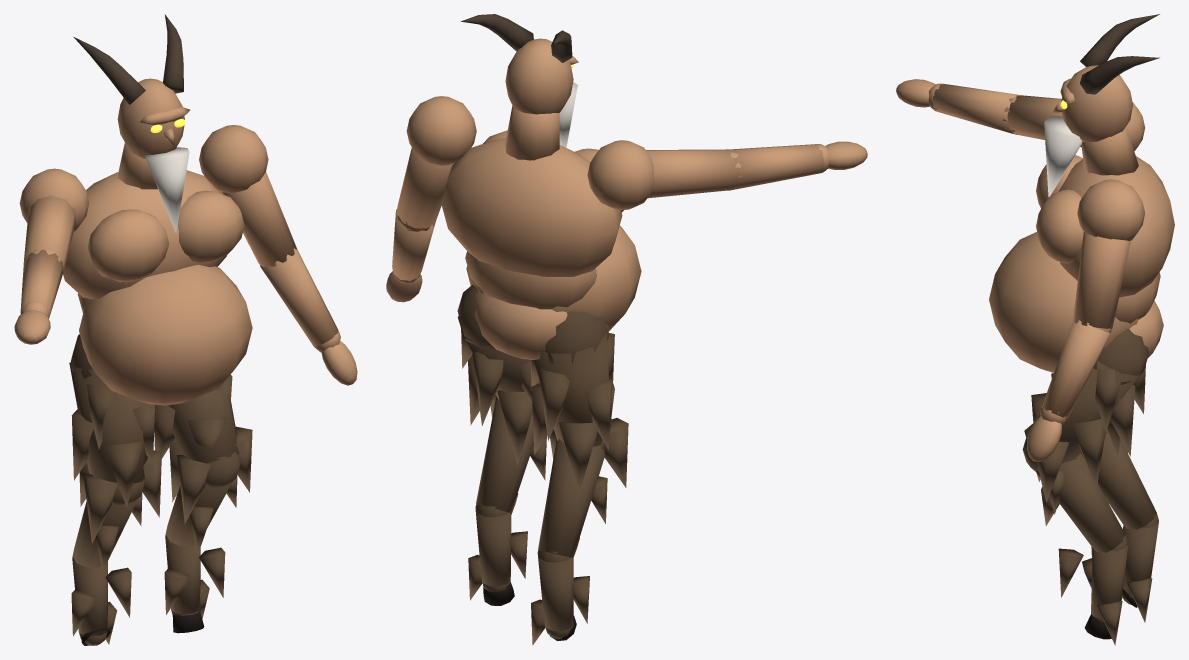
File: silenus.glb
3 views of the same model, side by side, from view 1: azimuth 30°, elevation 25°; view 2: azimuth 150°, elevation 25°; view 3: azimuth 270°, elevation 25° (orthographic). The views are drawn at different scales.
Parts seen in each view (by area): view 1: torso, thigh_R, head, thigh_L, upperarm_L, shin_R, shin_L, upperarm_R, forearm_L, forearm_R, hand_L, hand_R (+1 smaller); view 2: torso, thigh_R, shin_R, shin_L, upperarm_R, upperarm_L, head, thigh_L, pelvis, forearm_R, forearm_L, hand_R (+1 smaller); view 3: torso, thigh_L, head, shin_L, upperarm_L, shin_R, forearm_L, forearm_R, upperarm_R, hand_L, pelvis, hand_R (+1 smaller).
Boxes of the visible parts, x1,y1,x2,y2 form: torso: (63,143,252,405); thigh_R: (69,334,161,543); head: (73,14,190,233); thigh_L: (154,374,252,524); upperarm_L: (199,125,296,267); shin_R: (71,492,142,645); shin_L: (164,475,237,618); upperarm_R: (19,168,89,271); forearm_L: (259,248,340,352); forearm_R: (20,249,63,318); hand_L: (321,340,357,385); hand_R: (14,310,50,344); torso: (441,105,641,331); thigh_R: (530,311,628,493); shin_R: (531,439,607,645); shin_L: (468,396,546,600); upperarm_R: (587,140,738,210); upperarm_L: (396,96,476,228); head: (461,14,578,147); thigh_L: (457,284,539,465); pelvis: (474,291,567,359); forearm_R: (724,144,829,190); forearm_L: (392,209,435,283); hand_R: (825,141,867,169); torso: (989,126,1174,372); thigh_L: (1022,329,1149,502); head: (1044,14,1159,196); shin_L: (1036,453,1128,645); upperarm_L: (1073,179,1145,329); shin_R: (1091,432,1158,622); forearm_L: (1040,318,1111,424); forearm_R: (928,83,1024,134); upperarm_R: (1003,95,1145,150); hand_L: (1026,416,1061,461); pelvis: (1129,300,1163,357); hand_R: (896,79,935,107).
Size of the model in its own units: 1.37 by 1.97 by 0.8375.
